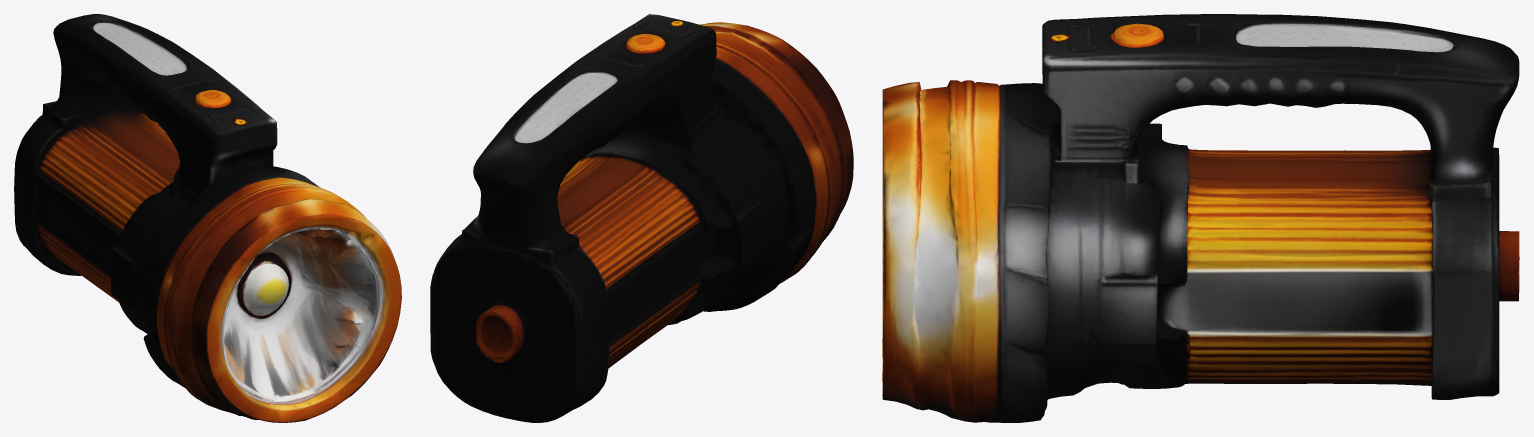
Rendered from flashlight.glb.
3 views of the same model, side by side, from view 1: azimuth 30°, elevation 25°; view 2: azimuth 150°, elevation 25°; view 3: azimuth 270°, elevation 25° (orthographic). The views are drawn at different scales.
Visible parts, largest first — view 1: world; view 2: world; view 3: world.
Boxes of the visible parts, x1=… form: world: x1=14, y1=14, x2=401, y2=422; world: x1=430, y1=14, x2=853, y2=422; world: x1=882, y1=14, x2=1519, y2=422.
Size of the model in its own units: 0.5421 by 0.6529 by 1.
1 material, 1 textured.
